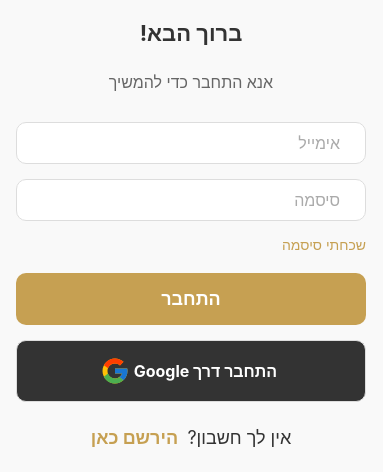
Test: SignIn פונקציונליות ומקרי קצה › מציג הודעת שגיאה כשאימייל בפורמט לא חוקי
In the field with placeholder "אימייל": [191, 142] box [32,122,350,162], type "notanemail"
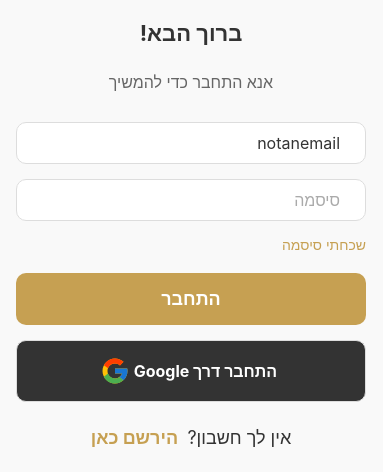
In the password field with placeholder "סיסמה": [191, 200] box [32,180,350,220], type "123456"
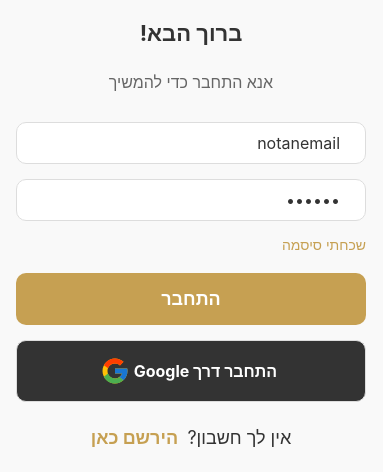
Click the text "התחבר": [191, 298] box [161,288,221,310]
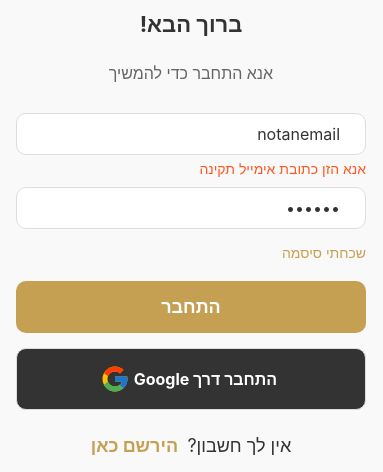
Check: the text "אנא הזן כתובת אימייל תקינה" is shown, box [199,160,366,177]
